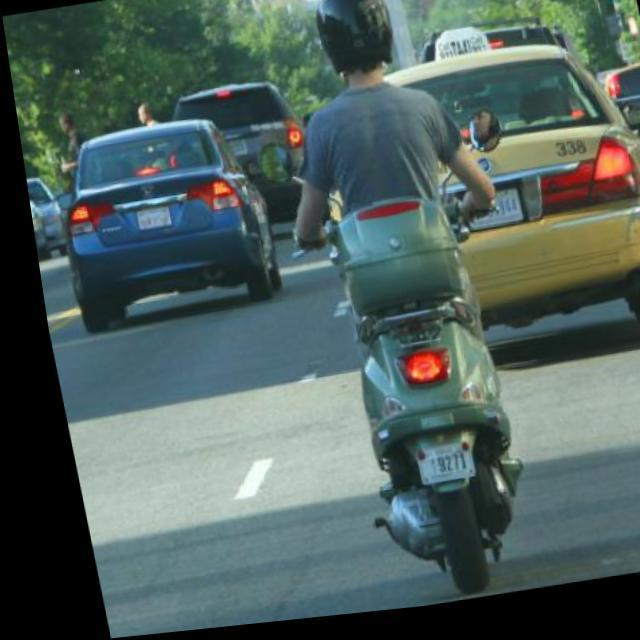license_plate: (452, 194, 518, 241), (128, 208, 168, 235), (218, 142, 244, 166)
